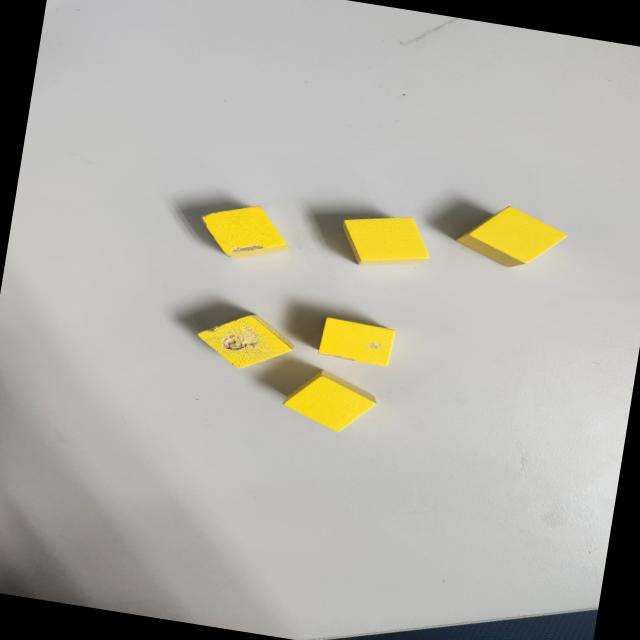broken: (193, 304, 300, 378), (194, 196, 296, 268), (314, 314, 398, 368)
yellow: (454, 198, 570, 276), (280, 363, 381, 438), (336, 207, 436, 277)
